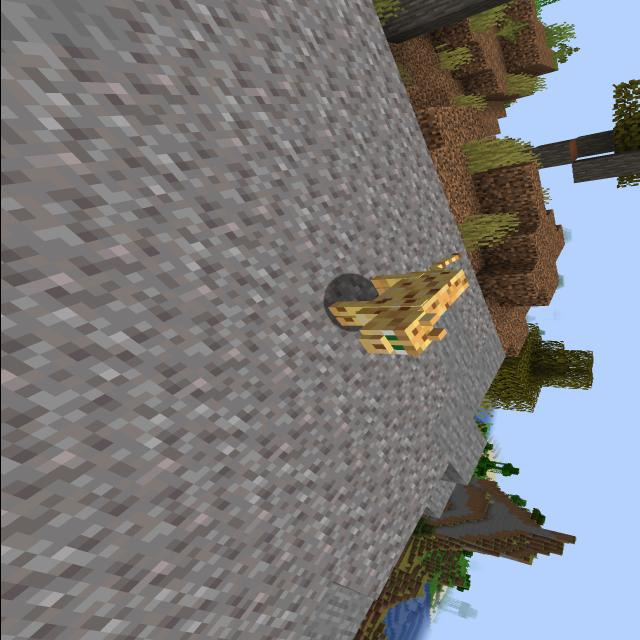Ocelot: (314, 243, 482, 363)
